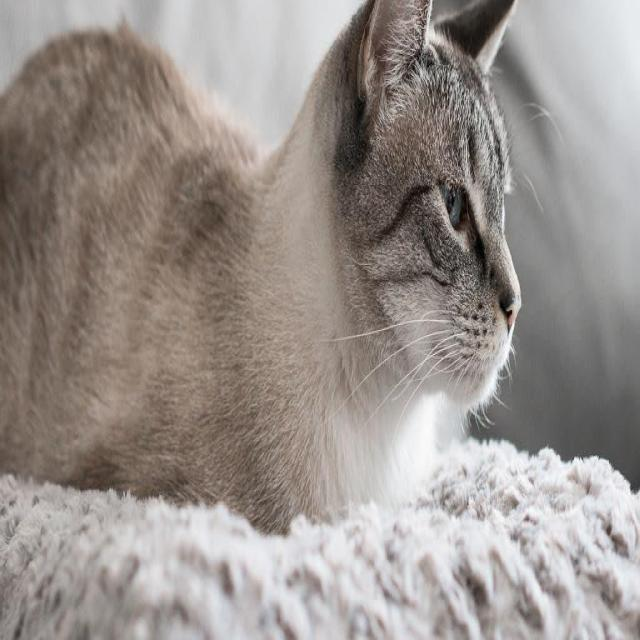Cat: (298, 0, 538, 439)
